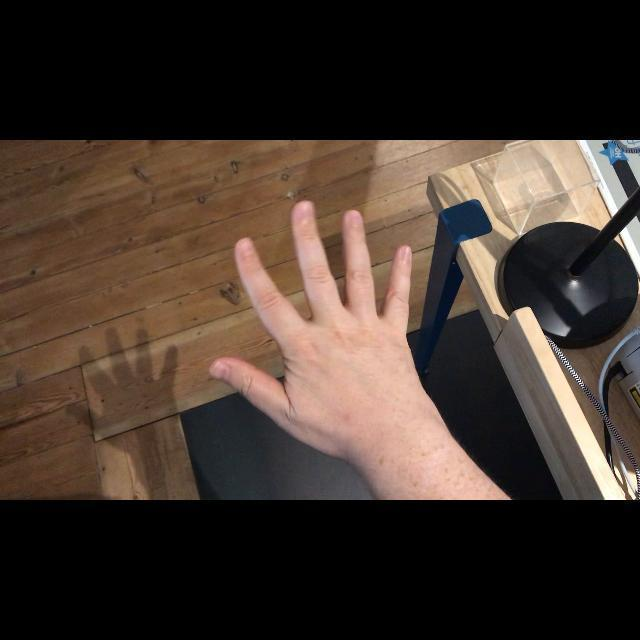bare_hand: (207, 198, 417, 450)
